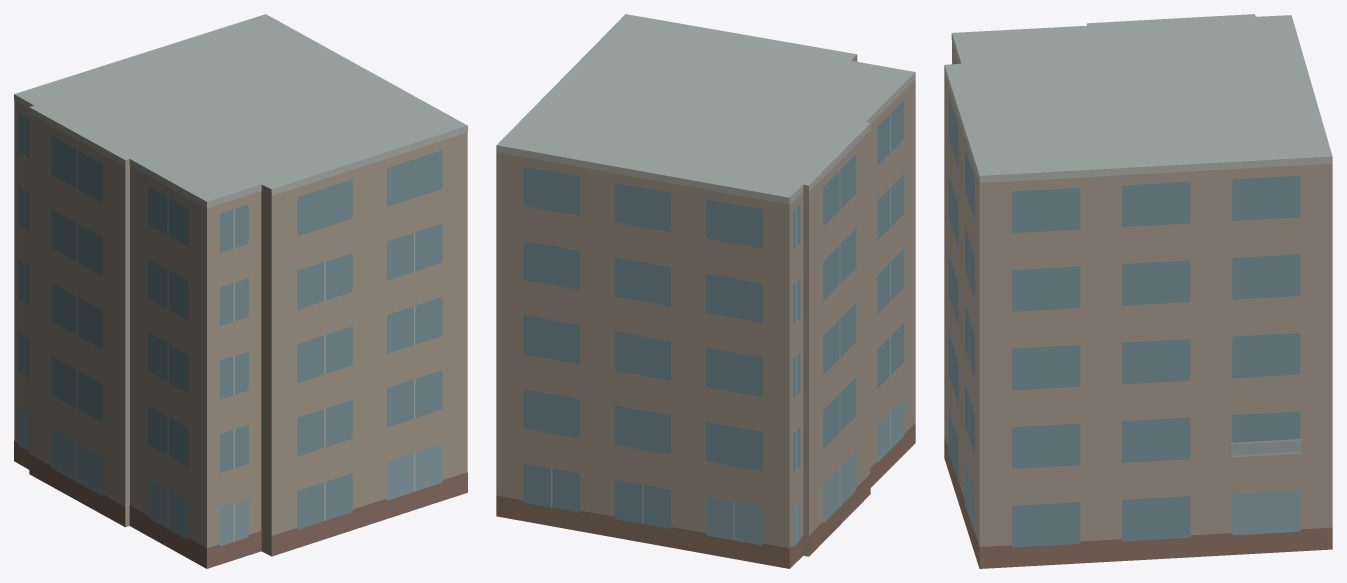
Rendered from survey-upis-33045958.glb.
3 views of the same model, side by side, from view 1: azimuth 30°, elevation 25°; view 2: azimuth 150°, elevation 25°; view 3: azimuth 270°, elevation 25° (orthographic). The views are drawn at different scales.
Visible parts, largest first — view 1: survey-upis-33045958.tmp; view 2: survey-upis-33045958.tmp; view 3: survey-upis-33045958.tmp.
Part boxes in pixels (bbox=[...]): survey-upis-33045958.tmp: bbox=[14, 14, 467, 568]; survey-upis-33045958.tmp: bbox=[496, 14, 915, 568]; survey-upis-33045958.tmp: bbox=[944, 14, 1332, 568].
Size of the model in its own units: 11.85 by 13.4 by 12.01.
